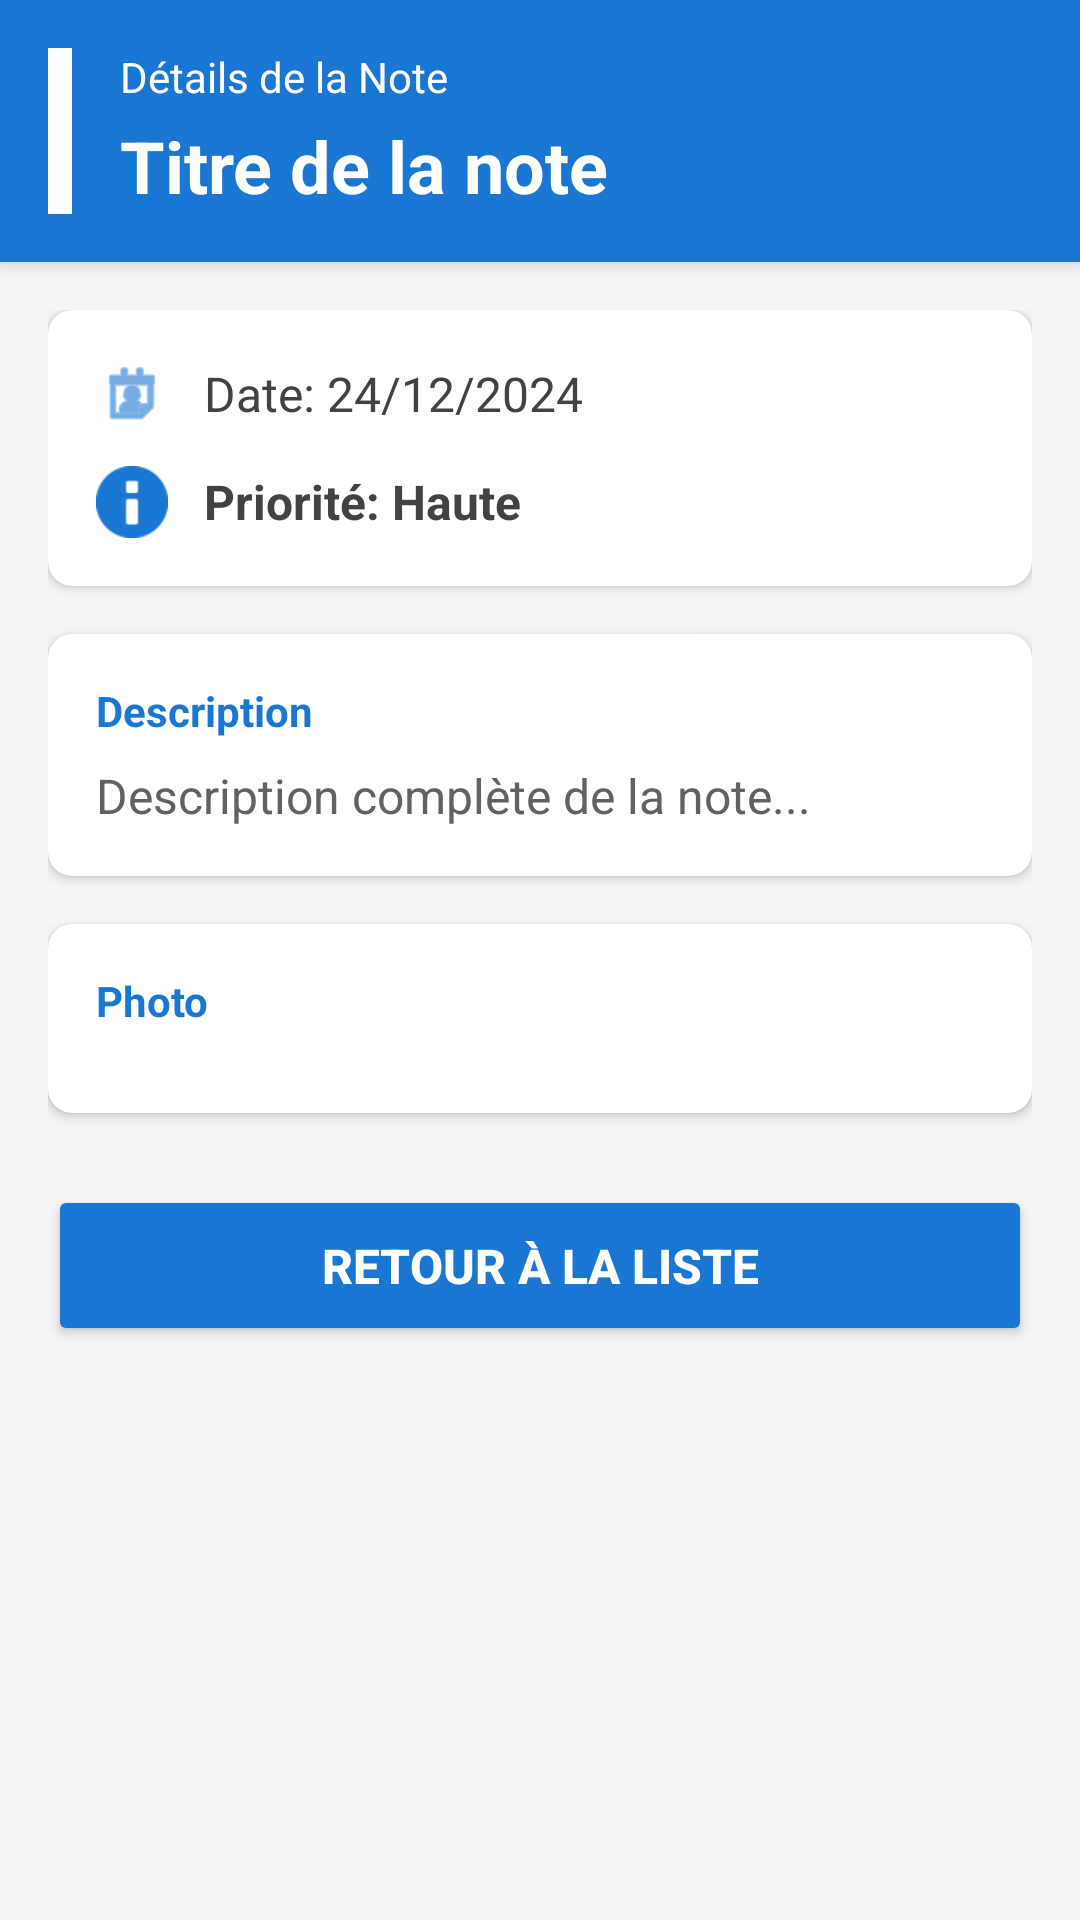

Icon bounding boxes for this 1080 x 1920 phone screenshot, format bbox(x1, y1, x2, y2):
calendar: bbox(109, 367, 155, 420)
info: bbox(96, 466, 168, 538)
